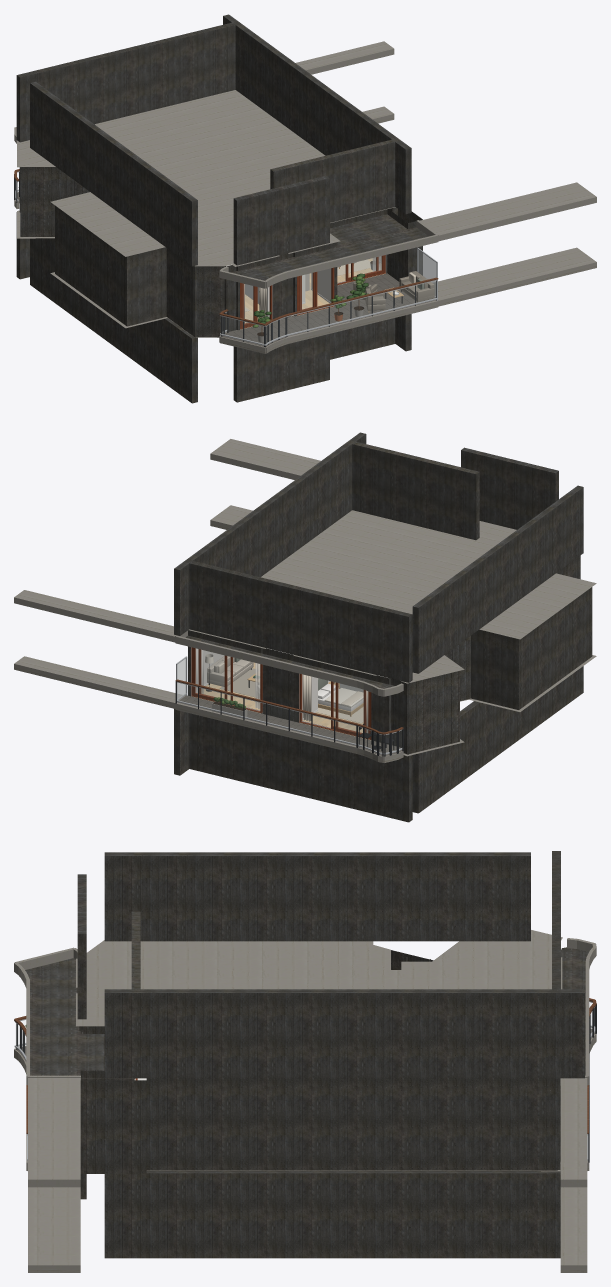
The picture shows the model from 3 angles, top to bottom: view 1: azimuth 30°, elevation 25°; view 2: azimuth 150°, elevation 25°; view 3: azimuth 270°, elevation 25°; orthographic projection. The views are drawn at different scales.
Visible parts, largest first — view 1: building.mass, slab.upper, building.neighbours, facade.900, railing.90, ceil.balkon_z, floor.balkon_z, facade.12, facade.902, facade.66, facade.65, railing.95 (+10 smaller); view 2: building.mass, slab.upper, building.neighbours, facade.900, railing.81, facade.901, facade.11, glass.exterior, facade.2, floor.balkon_n, facade.6, facade.5 (+10 smaller); view 3: building.mass, facade.79, slab.upper, building.neighbours, facade.78, ceil.balkon_z, ceil.balkon_n, railing.81, railing.95, railing.90.
Boxes of the visible parts, x1,y1,x2,y2 form: building.mass: (16,14,411,403); slab.upper: (17,90,395,266); building.neighbours: (296,41,596,306); facade.900: (55,205,126,326); railing.90: (286,235,438,343); ceil.balkon_z: (231,214,428,280); floor.balkon_z: (220,273,435,347); facade.12: (20,167,89,236); facade.902: (127,247,166,326); facade.66: (193,266,224,337); facade.65: (166,248,194,337); railing.95: (219,270,266,353); building.mass: (174,432,583,822); slab.upper: (189,510,596,683); building.neighbours: (14,439,320,708); facade.900: (519,587,592,709); railing.81: (175,635,358,753); facade.901: (471,629,518,709); facade.11: (429,671,459,749); glass.exterior: (201,650,363,732); facade.2: (262,648,298,722); floor.balkon_n: (177,695,402,755); facade.6: (407,680,422,754); facade.5: (391,678,408,754); building.mass: (77,851,584,1258); facade.79: (146,1078,557,1170); slab.upper: (76,930,562,1026); building.neighbours: (28,1078,587,1272); facade.78: (80,1070,146,1173); ceil.balkon_z: (25,958,135,1078); ceil.balkon_n: (561,947,588,1075); railing.81: (585,961,589,1170); railing.95: (14,947,74,1049); railing.90: (26,979,29,1170).
Size of what is drawn, in the model's own units: 21.01 by 9.75 by 19.42.
Materials: 61 (33 with a texture image).
